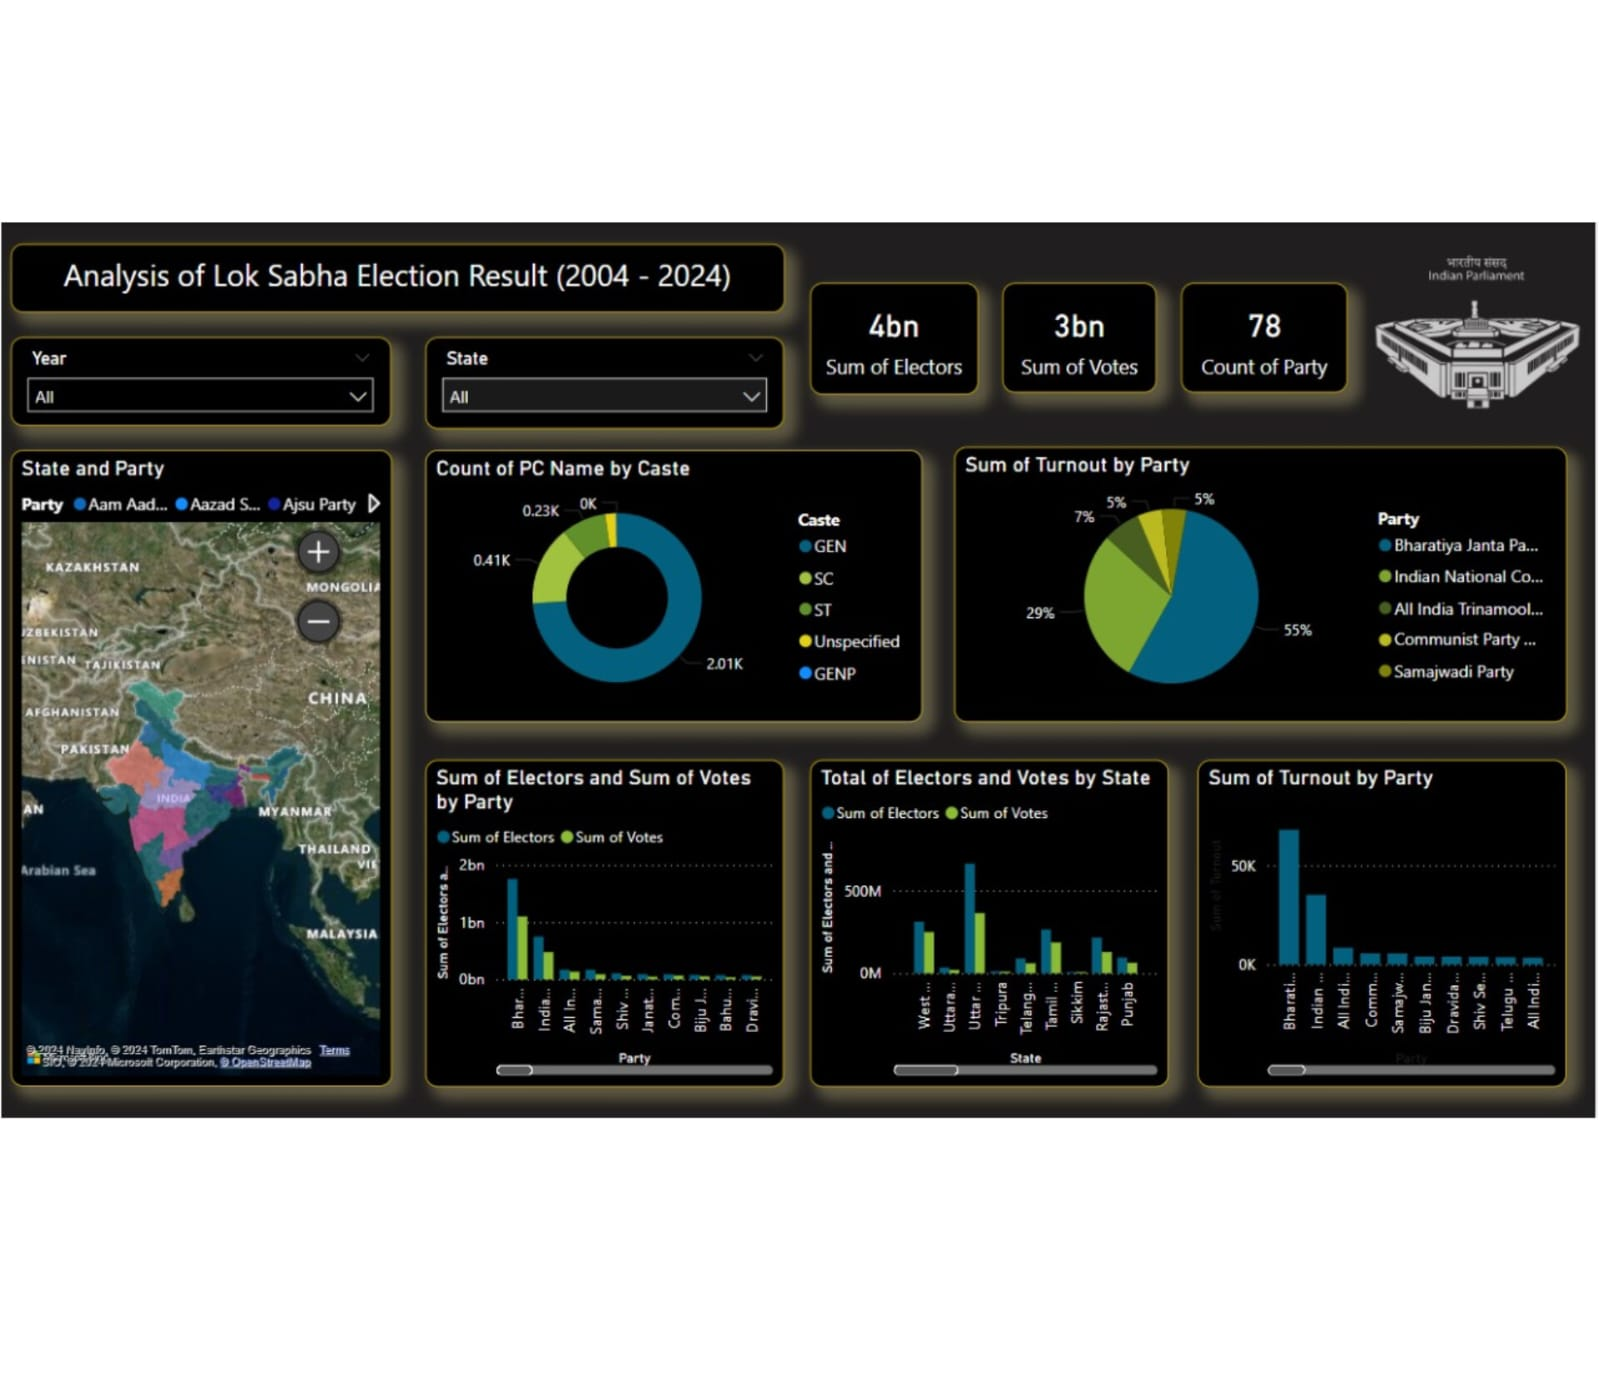

The dashboard page shown, as its layout file describes it:
{"tool":"powerbi","page":{"name":"Page 2","canvas":[2250,1070],"ordinal":0},"visuals":[{"type":"clusteredColumnChart","title":"Total of Electors and Votes by State","fields":{"Y":["Sum(Final_Election_Data (2004-2024)_sys.Electors)","Sum(Final_Election_Data (2004-2024)_sys.Votes)"],"Category":["Final_Election_Data (2004-2024)_sys.State"]},"box":[1092,614,582,408],"z":0},{"type":"pieChart","fields":{"Category":["Final_Election_Data (2004-2024)_sys.Party"],"Y":["Sum(Final_Election_Data (2004-2024)_sys.Turnout)"]},"box":[1204,176,562,388],"z":1000},{"type":"donutChart","fields":{"Category":["Final_Election_Data (2004-2024)_sys.Caste"],"Y":["CountNonNull(Final_Election_Data (2004-2024)_sys.PC Name)"]},"box":[1714,614,506,408],"z":2000},{"type":"clusteredColumnChart","fields":{"Category":["Final_Election_Data (2004-2024)_sys.Party"],"Y":["Sum(Final_Election_Data (2004-2024)_sys.Electors)","Sum(Final_Election_Data (2004-2024)_sys.Votes)"]},"box":[598,614,454,408],"z":3000},{"type":"slicer","fields":{"Values":["Final_Election_Data (2004-2024)_sys.Year"]},"box":[272.5,28.7,277.9,98.6],"z":4000},{"type":"slicer","fields":{"Values":["Final_Election_Data (2004-2024)_sys.State"]},"box":[598.8,28.7,442.8,98.6],"z":5000},{"type":"card","fields":{"Values":["Sum(Final_Election_Data (2004-2024)_sys.Electors)"]},"box":[1640,28,250,100],"z":6000},{"type":"card","fields":{"Values":["Sum(Final_Election_Data (2004-2024)_sys.Votes)"]},"box":[1370,28,236,100],"z":7000},{"type":"filledMap","fields":{"Category":["Final_Election_Data (2004-2024)_sys.State"],"Series":["Final_Election_Data (2004-2024)_sys.Party"]},"box":[36,472,514,550],"z":8000},{"type":"card","fields":{"Values":["Count(Final_Election_Data (2004-2024)_sys.Party)"]},"box":[1076,28,254,100],"z":9000},{"type":"clusteredColumnChart","fields":{"Category":["Final_Election_Data (2004-2024)_sys.Party"],"Y":["Sum(Final_Election_Data (2004-2024)_sys.Turnout)"]},"box":[1792,176,428,388],"z":10000},{"type":"lineStackedColumnComboChart","fields":{"Category":["Final_Election_Data (2004-2024)_sys.Year"],"Y":["Sum(Final_Election_Data (2004-2024)_sys.Electors)"],"Y2":["Sum(Final_Election_Data (2004-2024)_sys.Votes)"]},"box":[598,176,574,388],"z":11000},{"type":"card","fields":{"Values":["CountNonNull(Final_Election_Data (2004-2024)_sys.Winning Candidate)"]},"box":[1918,28,302,100],"z":12000},{"type":"tableEx","title":"PC Wise Winning Candidate","fields":{"Values":["Final_Election_Data (2004-2024)_sys.PC Name","Final_Election_Data (2004-2024)_sys.Winning Candidate","Sum(Final_Election_Data (2004-2024)_sys.Votes)"]},"box":[36.1,176.9,514.3,265.3],"z":13000},{"type":"image","box":[35.9,28.7,206.2,121.9],"z":14000}]}

Visuals, with their boxes in screenshot pixels (x1, y1, x2, y2):
"Total of Electors and Votes by State" clusteredColumnChart: box=[773, 817, 1196, 1113]
pieChart - Final_Election_Data (2004-2024)_sys.Party x Sum(Final_Election_Data (2004-2024)_sys.Turnout): box=[854, 498, 1262, 780]
donutChart - Final_Election_Data (2004-2024)_sys.Caste x CountNonNull(Final_Election_Data (2004-2024)_sys.PC Name): box=[1225, 817, 1592, 1113]
clusteredColumnChart - Final_Election_Data (2004-2024)_sys.Party x Sum(Final_Election_Data (2004-2024)_sys.Electors): box=[414, 817, 744, 1113]
slicer - Final_Election_Data (2004-2024)_sys.Year: box=[177, 391, 379, 463]
slicer - Final_Election_Data (2004-2024)_sys.State: box=[414, 391, 736, 463]
card - Sum(Final_Election_Data (2004-2024)_sys.Electors): box=[1171, 391, 1352, 464]
card - Sum(Final_Election_Data (2004-2024)_sys.Votes): box=[975, 391, 1146, 464]
filledMap - Final_Election_Data (2004-2024)_sys.State x Final_Election_Data (2004-2024)_sys.Party: box=[5, 714, 379, 1113]
card - Count(Final_Election_Data (2004-2024)_sys.Party): box=[761, 391, 946, 464]
clusteredColumnChart - Final_Election_Data (2004-2024)_sys.Party x Sum(Final_Election_Data (2004-2024)_sys.Turnout): box=[1281, 498, 1592, 780]
lineStackedColumnComboChart - Final_Election_Data (2004-2024)_sys.Year x Sum(Final_Election_Data (2004-2024)_sys.Electors): box=[414, 498, 831, 780]
card - CountNonNull(Final_Election_Data (2004-2024)_sys.Winning Candidate): box=[1373, 391, 1592, 464]
"PC Wise Winning Candidate" tableEx: box=[5, 499, 379, 692]
image: box=[5, 391, 155, 480]
